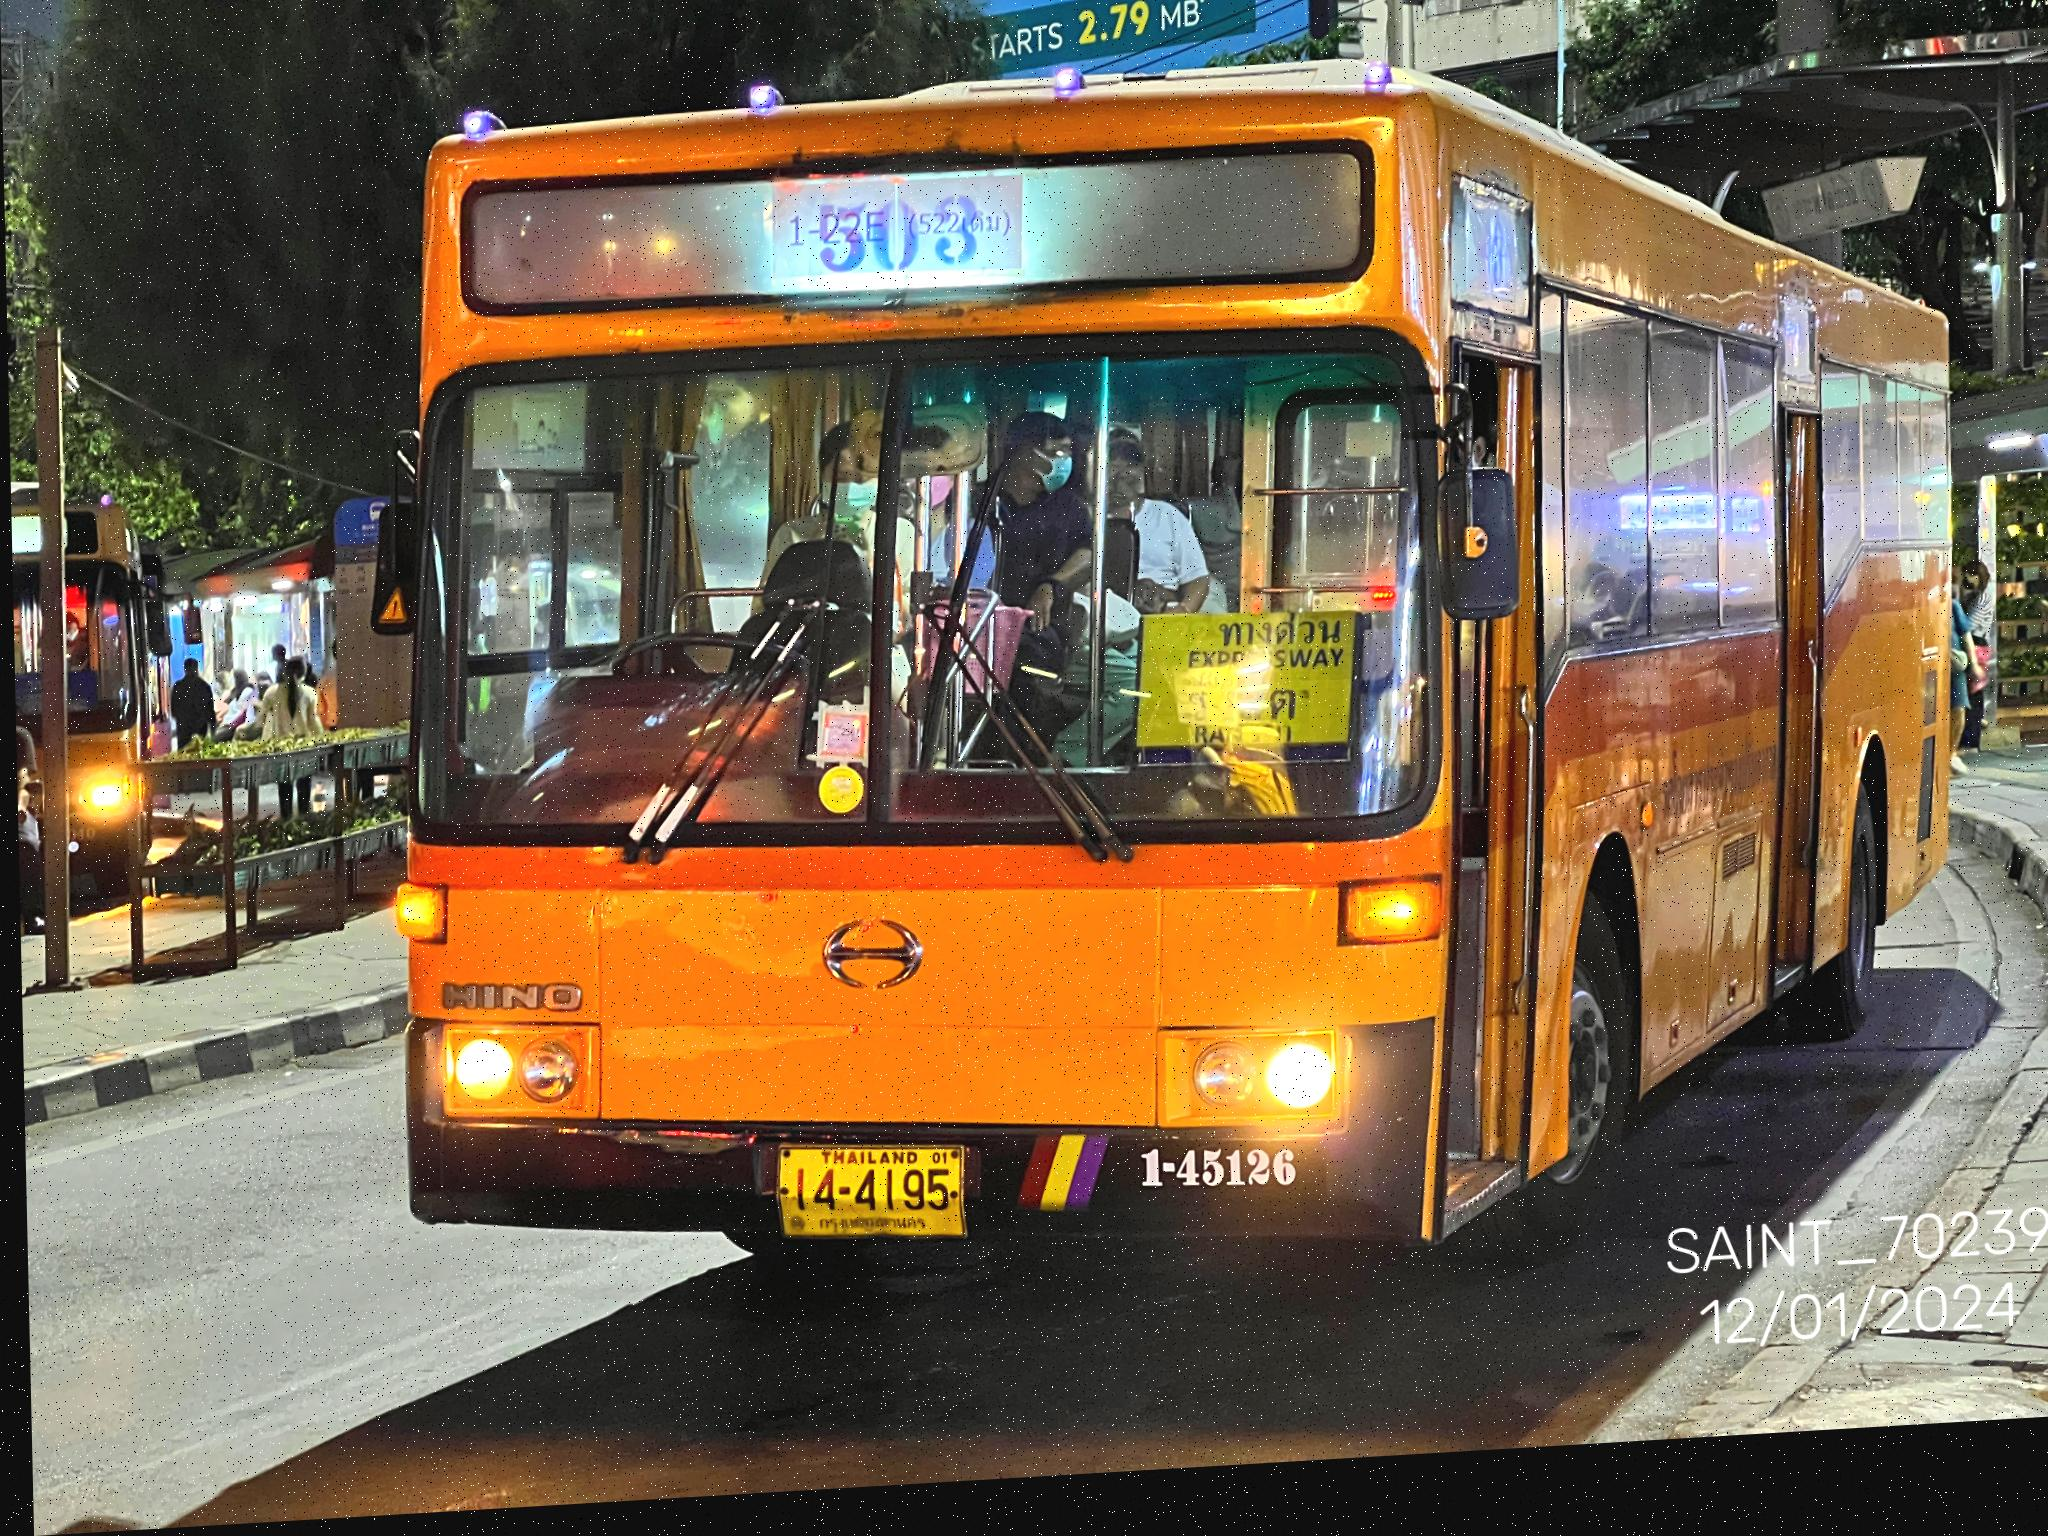BMTA-bus: (387, 89, 1950, 1275)
Bus Line Number: (751, 165, 1047, 303)
Bus Side Number: (1108, 1139, 1311, 1226)
Destination Sign: (1119, 592, 1363, 802)
